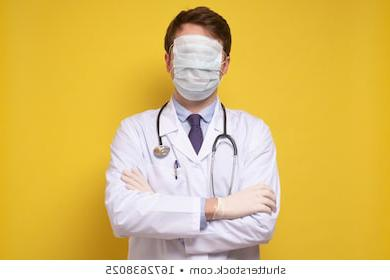mask_weared_incorrect: (163, 39, 232, 101)
